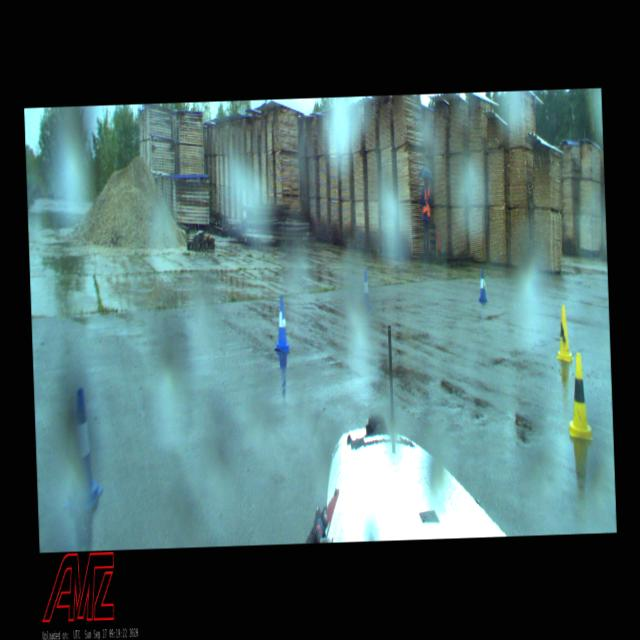blue_cone: (59, 384, 104, 514), (272, 294, 290, 352), (362, 268, 371, 311), (477, 267, 487, 301)
yellow_cone: (566, 351, 594, 442), (554, 304, 573, 362)
